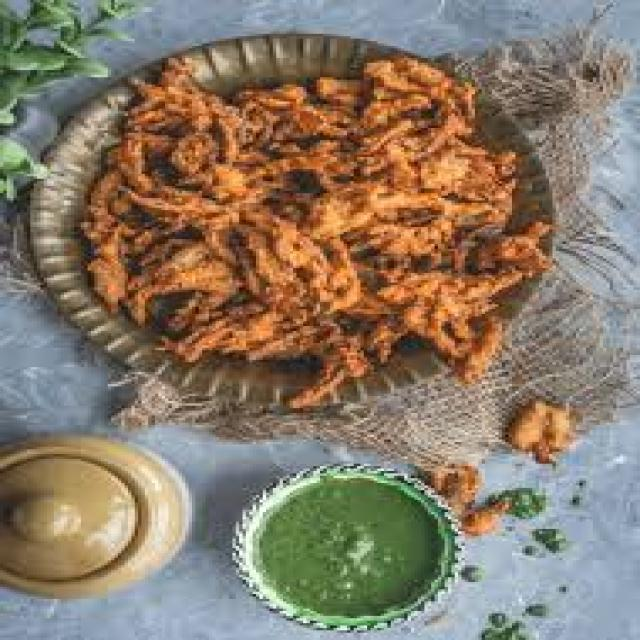BAJI: (63, 48, 545, 406)
